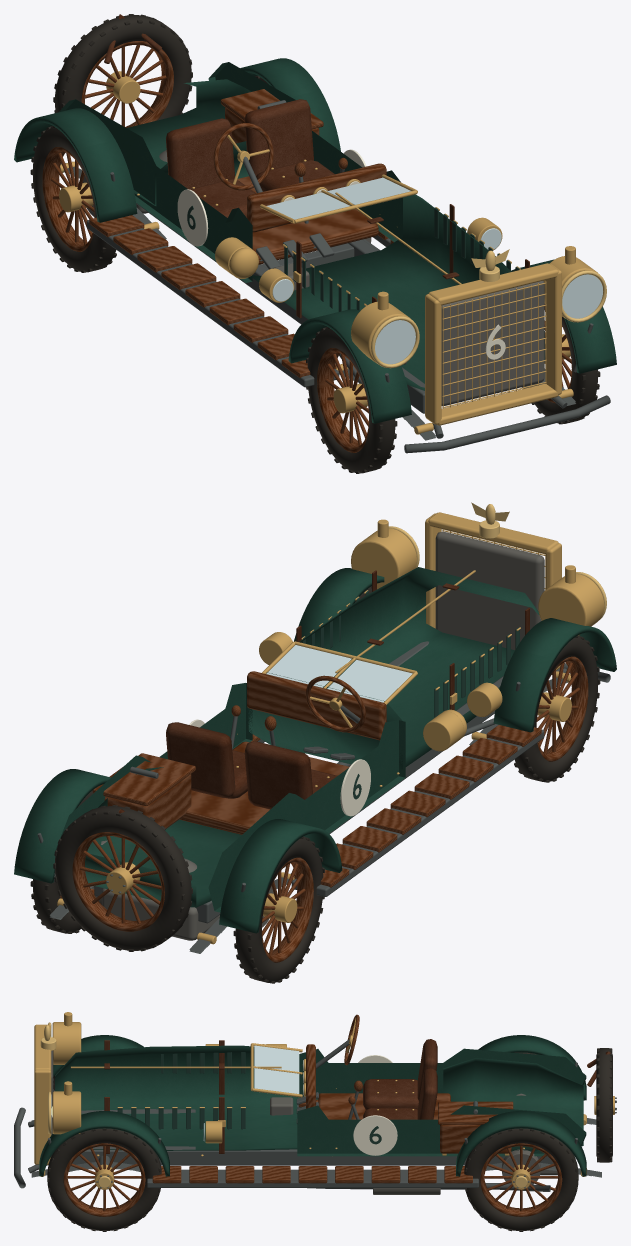
Rendered from RussoBalt_C24_55_Detailed.fbx.
The picture shows the model from 3 angles, top to bottom: view 1: azimuth 30°, elevation 25°; view 2: azimuth 150°, elevation 25°; view 3: azimuth 270°, elevation 25°; orthographic projection. The views are drawn at different scales.
Parts seen in each view (by area): view 1: RB_Hood, RB_Radiator_Core, RB_Mudguard_R_-1, RB_Body_Side_R, RB_Wheel_SPARE_Tire, RB_Mudguard_F_-1, RB_Seat_Back_1, RB_Seat_Back_-1, RB_Wheel_FL_Tire, RB_Rear_Deck, RB_Cockpit_Floor, RB_Wheel_RL_Tire (+39 smaller); view 2: RB_Hood, RB_Radiator_Core, RB_Wheel_SPARE_Tire, RB_Body_Side_R, RB_Mudguard_R_-1, RB_Mudguard_F_-1, RB_Rear_Deck, RB_Mudguard_R_1, RB_Dashboard, RB_Seat_Back_1, RB_Wheel_RL_Tire, RB_Seat_Back_-1 (+35 smaller); view 3: RB_Hood, RB_Rear_Deck, RB_Body_Side_L, RB_Chassis_Rail_L, RB_Body_Side_R, RB_Wheel_FR_Tire, RB_Wheel_RR_Tire, RB_RunningBoard_Frame_1, RB_Mudguard_R_1, RB_Mudguard_F_1, RB_Wheel_SPARE_Tire, RB_Seat_Cushion_-1 (+37 smaller).
Part boxes in pixels (bbox=[...]): RB_Hood: bbox=[251, 194, 544, 390]; RB_Radiator_Core: bbox=[441, 281, 544, 405]; RB_Mudguard_R_-1: bbox=[14, 108, 137, 222]; RB_Body_Side_R: bbox=[59, 99, 252, 282]; RB_Wheel_SPARE_Tire: bbox=[54, 15, 191, 120]; RB_Mudguard_F_-1: bbox=[288, 309, 411, 423]; RB_Seat_Back_1: bbox=[244, 99, 313, 176]; RB_Seat_Back_-1: bbox=[166, 118, 234, 189]; RB_Wheel_FL_Tire: bbox=[307, 326, 395, 473]; RB_Rear_Deck: bbox=[127, 79, 251, 205]; RB_Cockpit_Floor: bbox=[237, 176, 378, 264]; RB_Wheel_RL_Tire: bbox=[32, 126, 116, 272]; RB_Hood: bbox=[248, 567, 539, 769]; RB_Radiator_Core: bbox=[435, 531, 544, 649]; RB_Wheel_SPARE_Tire: bbox=[55, 806, 191, 950]; RB_Body_Side_R: bbox=[208, 720, 405, 912]; RB_Mudguard_R_-1: bbox=[219, 819, 342, 933]; RB_Mudguard_F_-1: bbox=[493, 618, 616, 732]; RB_Rear_Deck: bbox=[85, 767, 241, 907]; RB_Mudguard_R_1: bbox=[14, 769, 110, 883]; RB_Dashboard: bbox=[247, 671, 386, 740]; RB_Seat_Back_1: bbox=[166, 722, 235, 797]; RB_Wheel_RL_Tire: bbox=[235, 836, 323, 983]; RB_Seat_Back_-1: bbox=[244, 741, 312, 809]; RB_Hood: bbox=[55, 1045, 297, 1150]; RB_Rear_Deck: bbox=[443, 1058, 583, 1150]; RB_Body_Side_L: bbox=[297, 1105, 586, 1156]; RB_Chassis_Rail_L: bbox=[72, 1146, 553, 1165]; RB_Body_Side_R: bbox=[297, 1048, 586, 1099]; RB_Wheel_FR_Tire: bbox=[47, 1128, 161, 1230]; RB_Wheel_RR_Tire: bbox=[464, 1128, 578, 1230]; RB_RunningBoard_Frame_1: bbox=[147, 1169, 478, 1187]; RB_Mudguard_R_1: bbox=[456, 1111, 586, 1176]; RB_Mudguard_F_1: bbox=[39, 1111, 169, 1176]; RB_Wheel_SPARE_Tire: bbox=[596, 1048, 612, 1162]; RB_Seat_Cushion_-1: bbox=[363, 1079, 418, 1109].
Size of the model in its own units: 163 by 141 by 463.
Materials: 12 (3 with a texture image).
